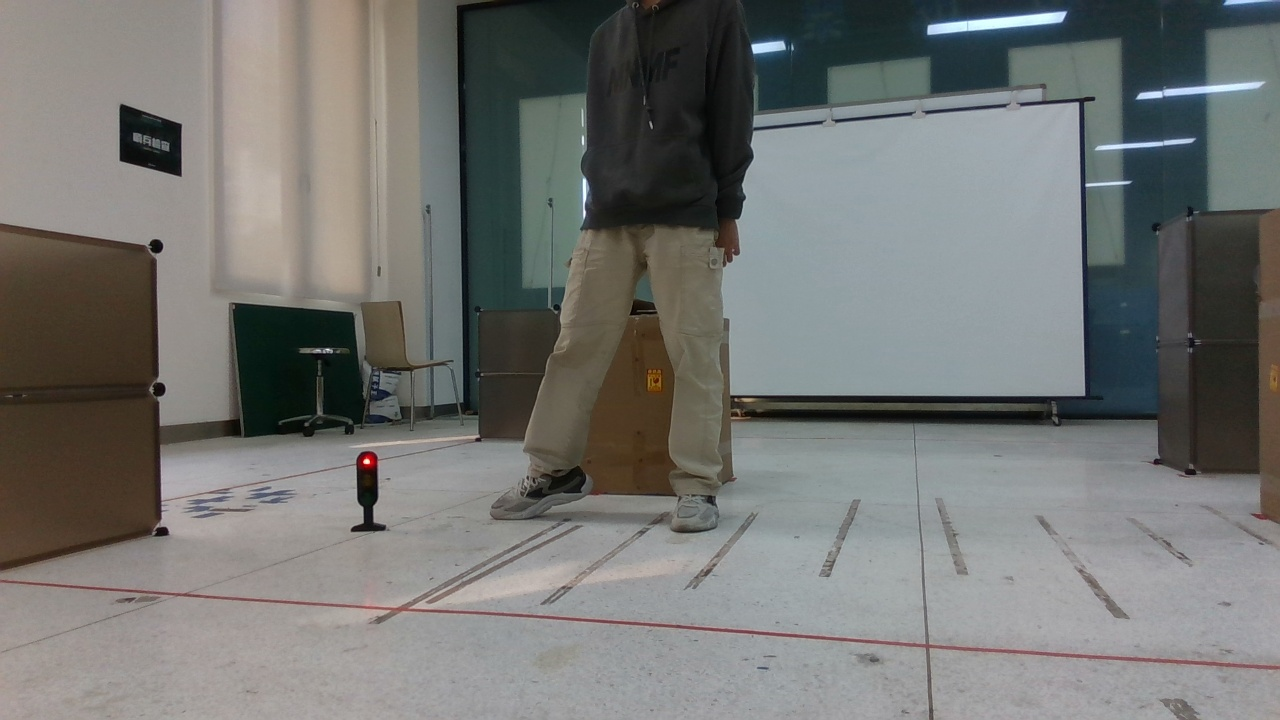red_light: (342, 444, 402, 539)
